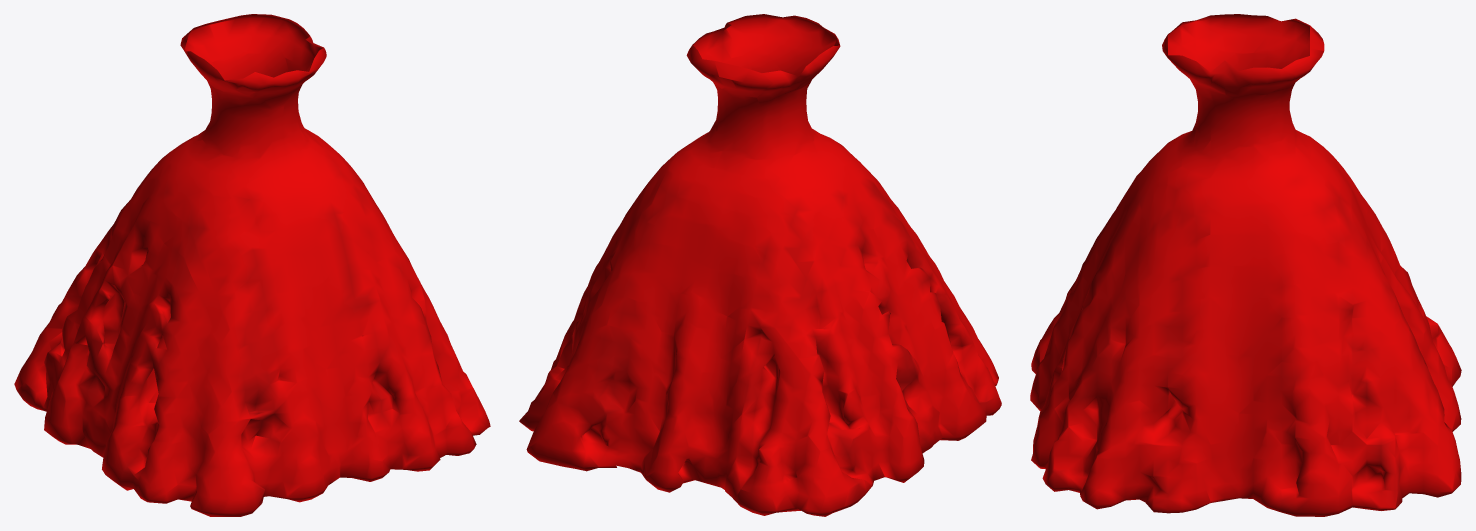
3 views of the same model, side by side, from view 1: azimuth 30°, elevation 25°; view 2: azimuth 150°, elevation 25°; view 3: azimuth 270°, elevation 25° (orthographic). The views are drawn at different scales.
Visible parts, largest first — view 1: dress; view 2: dress; view 3: dress.
Part boxes in pixels (bbox=[...]): dress: bbox=[14, 14, 490, 516]; dress: bbox=[519, 14, 1001, 516]; dress: bbox=[1030, 14, 1461, 516].
Size of the model in its own units: 3.31 by 3.32 by 3.31.
